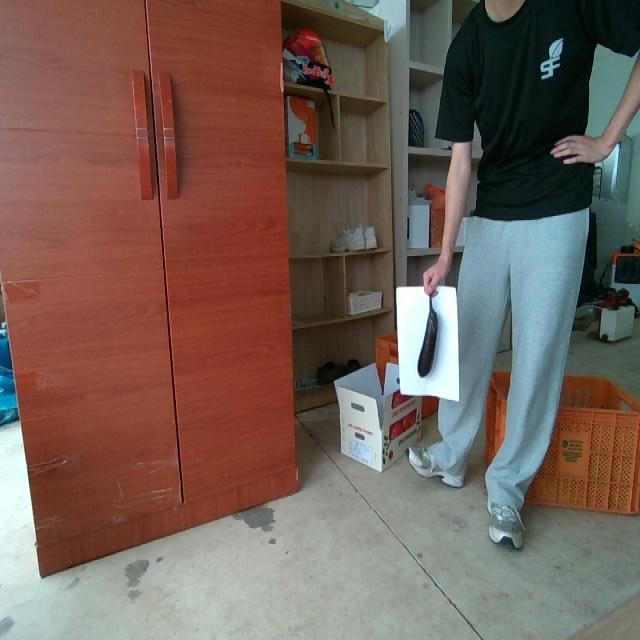Egg plant: (417, 297, 437, 376)
